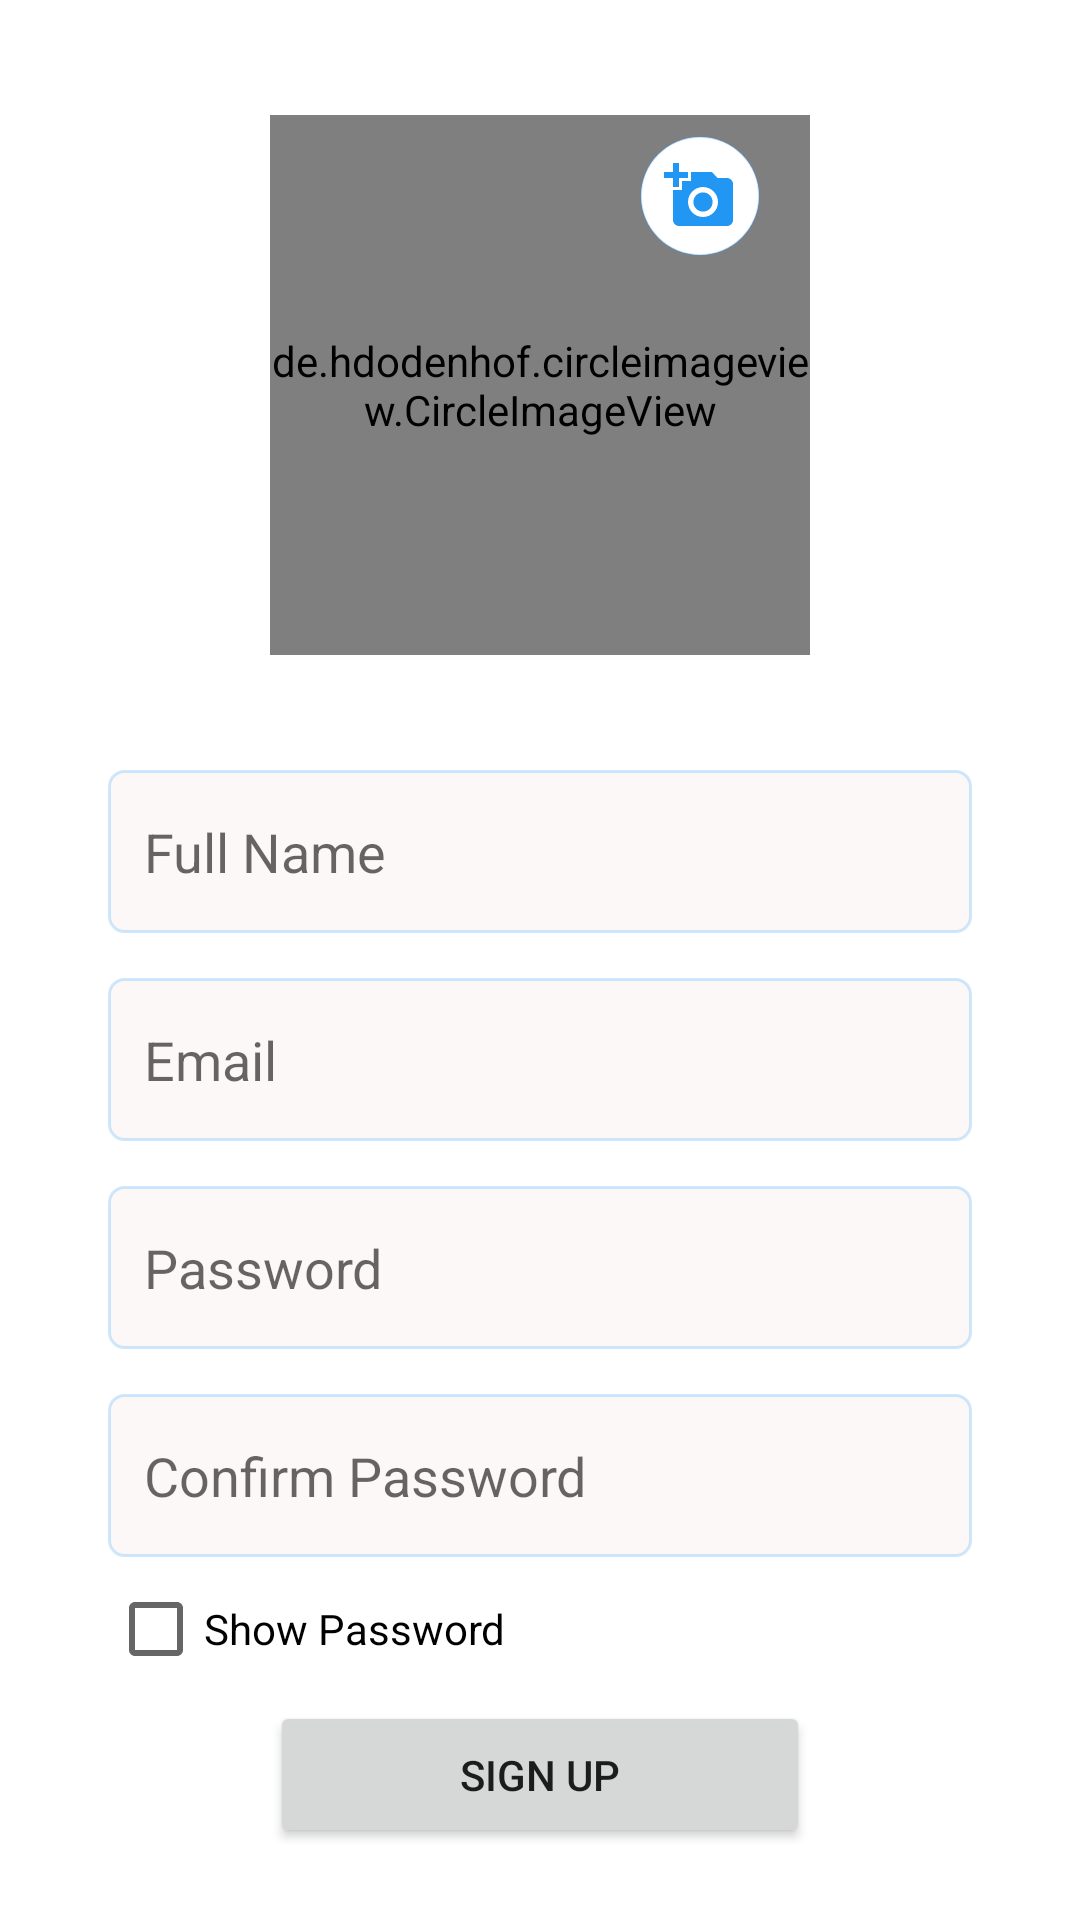

Icons on this 1080w x 1920h Android screen, each with the point to tap as (x,y):
add photo: (699,196)
